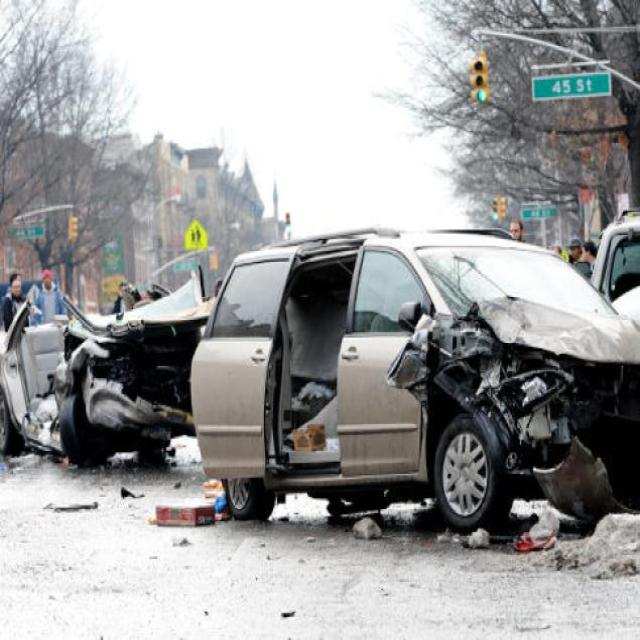crush: (387, 295, 640, 525), (0, 264, 214, 466)
